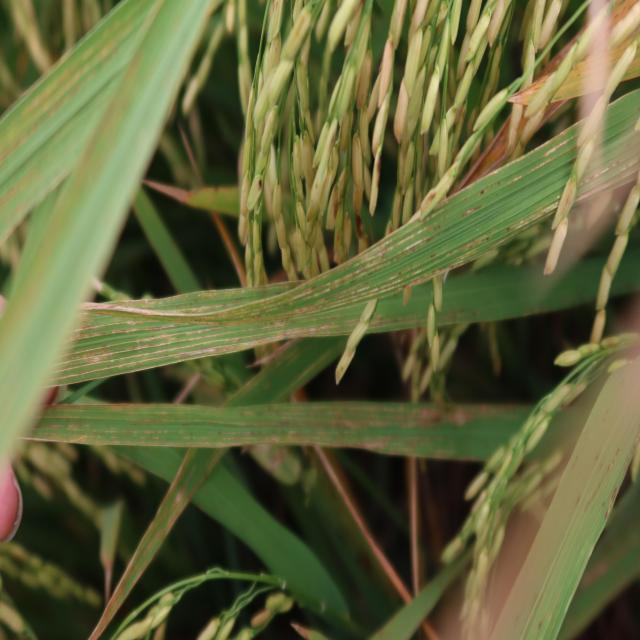Dom soc vi khuan: (51, 126, 579, 385), (27, 402, 532, 460), (580, 91, 640, 199)
